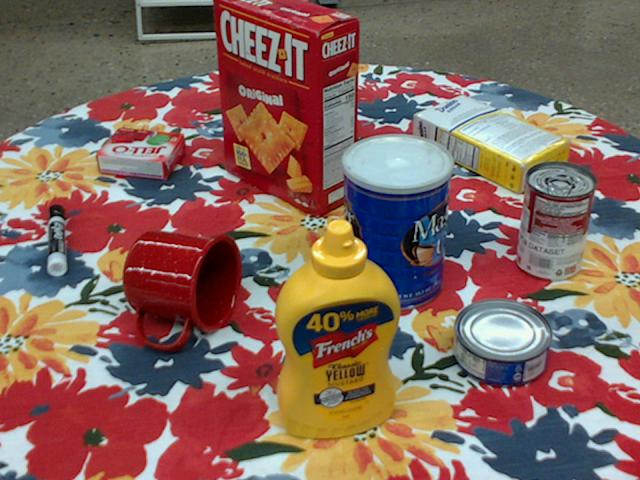cracker_box: (214, 0, 359, 212)
gelatin_box: (96, 128, 185, 180)
large_marker: (46, 203, 65, 275)
master_chef_can: (341, 134, 452, 312)
mug: (121, 230, 241, 350)
mustard_bottle: (273, 219, 399, 438)
potted_meat_can: (240, 46, 318, 123)
sugar_box: (413, 93, 571, 195)
tomato_soup_can: (517, 161, 596, 281)
tuna_fish_can: (451, 300, 551, 388)
